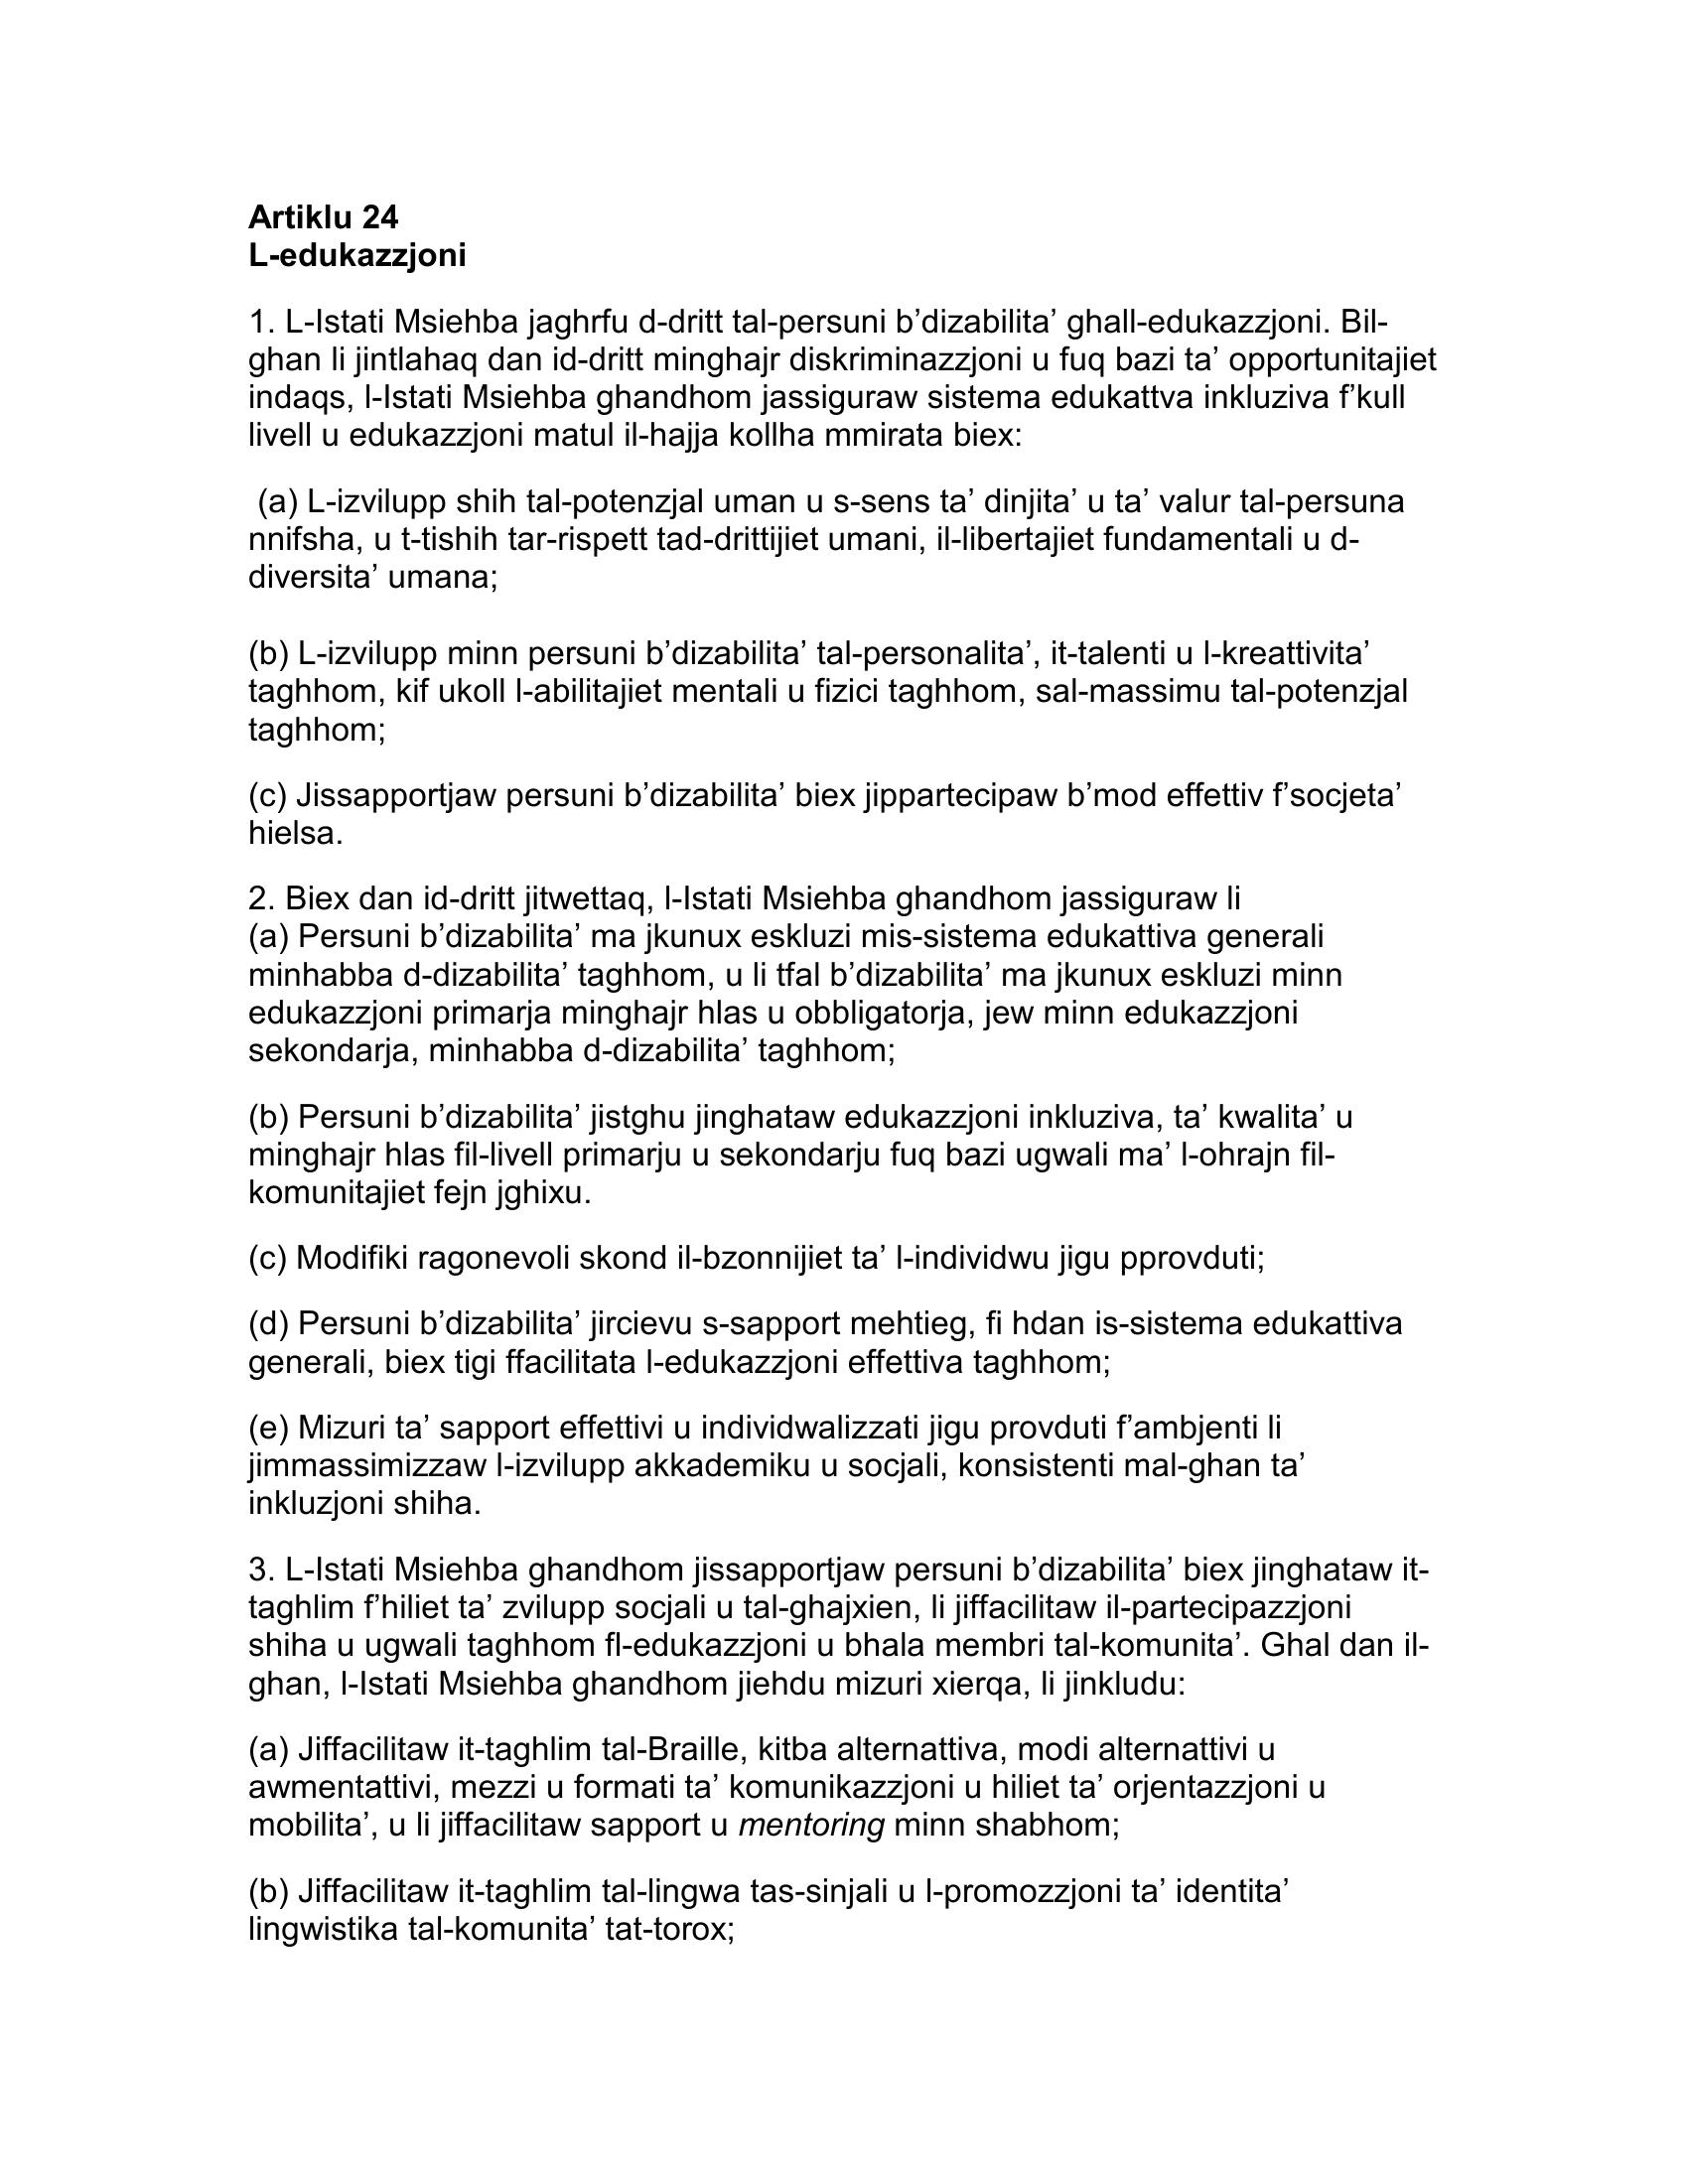text: (220, 172, 1454, 1973)
